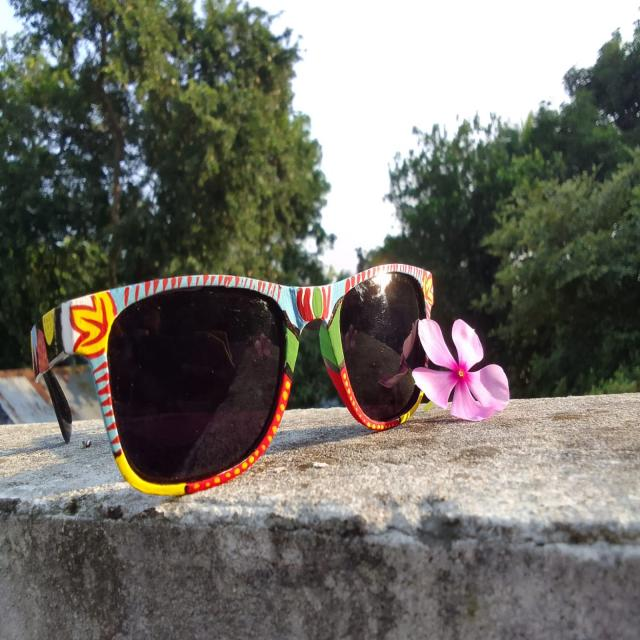glasses: (8, 213, 482, 524)
